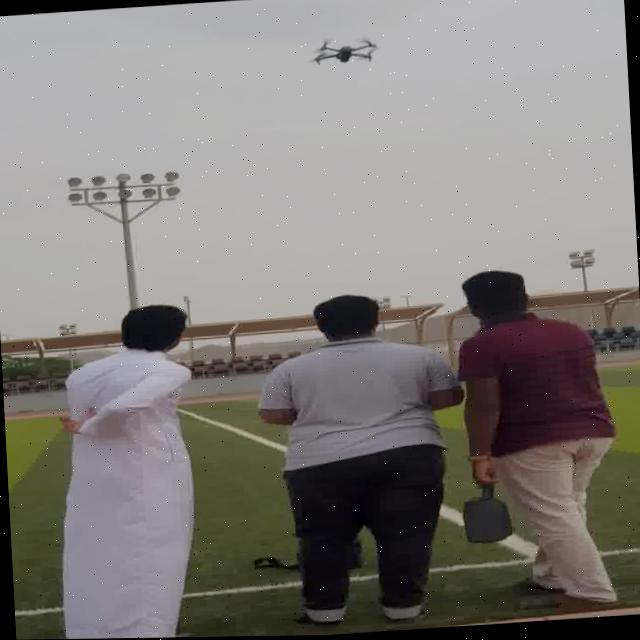drone: (302, 35, 398, 70)
